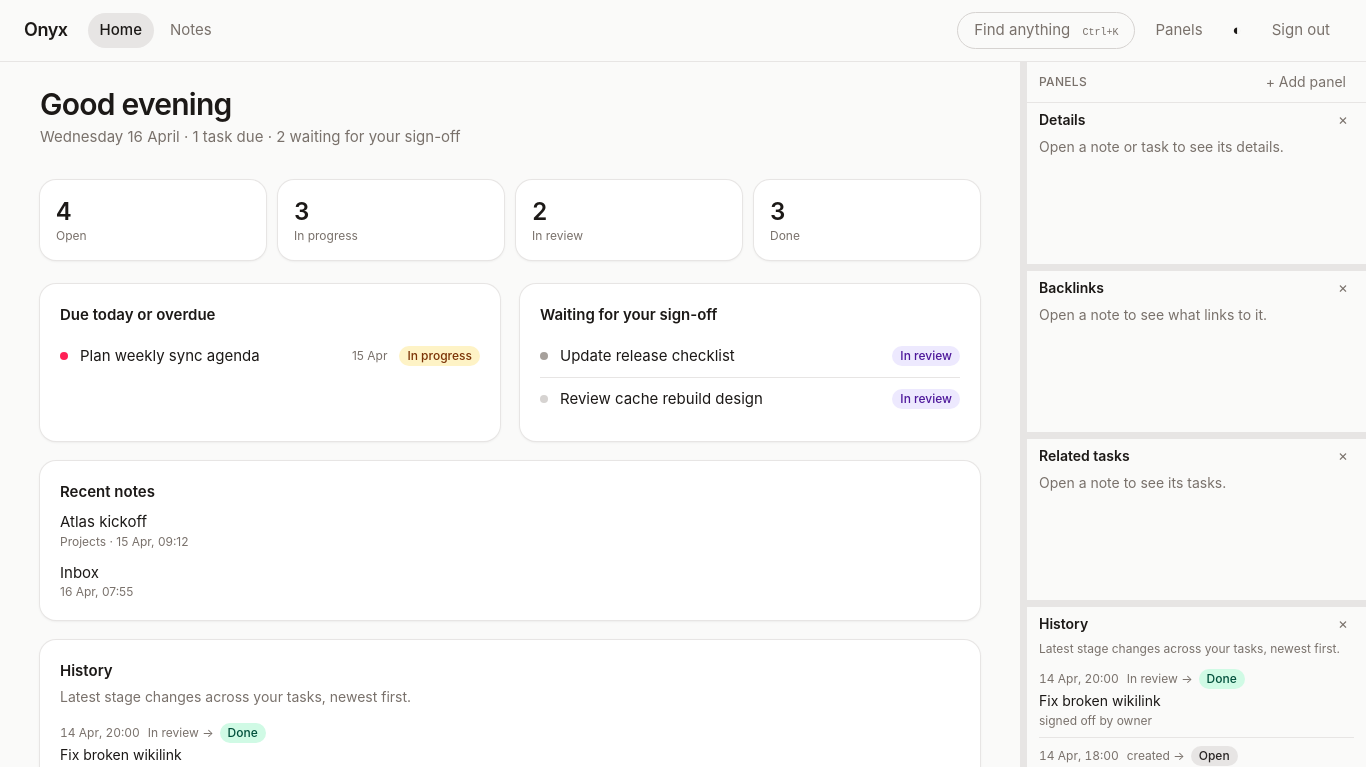
Test: frame › signs out from the top bar
Click the button "Sign out" at (1301, 30), box top-left (1260, 13), bottom-right (1342, 48)
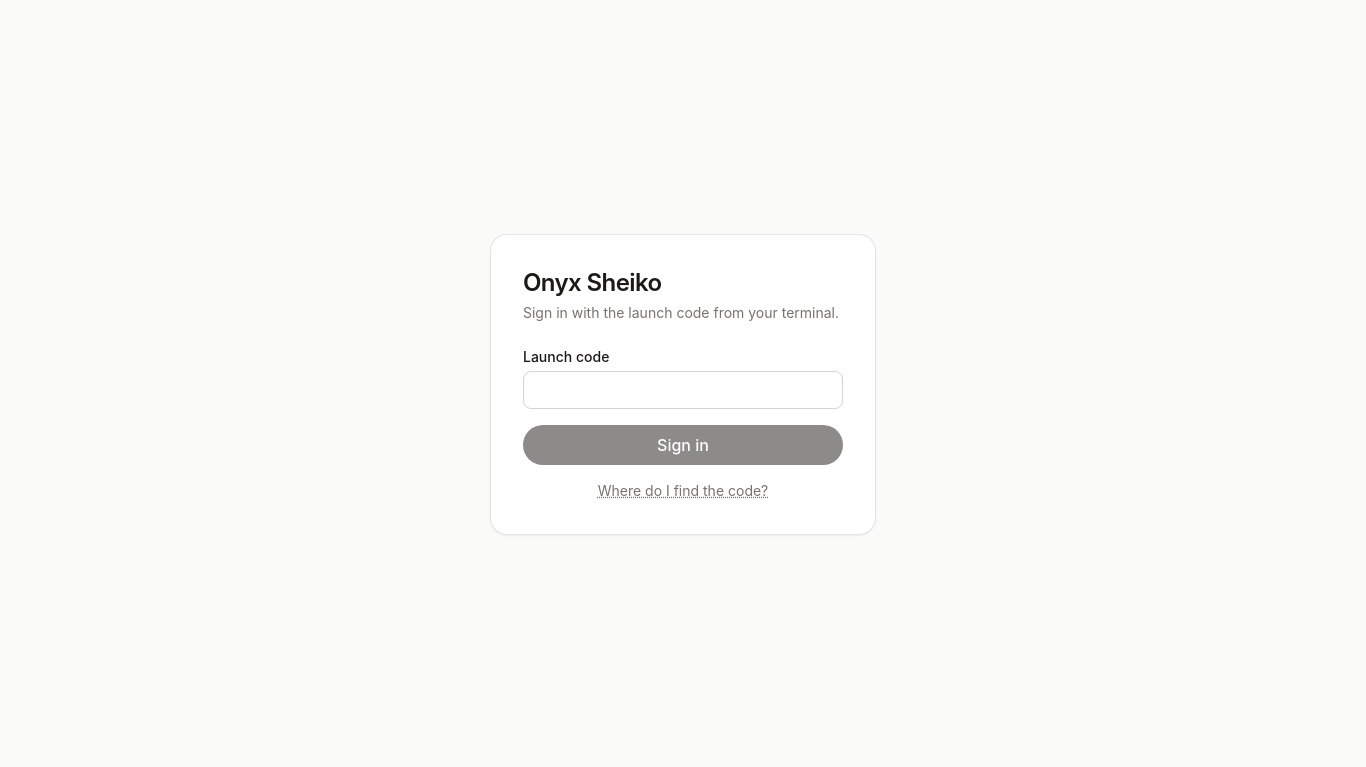
Now the field labelled "Launch code" is shown, box top-left (523, 370), bottom-right (843, 408)
